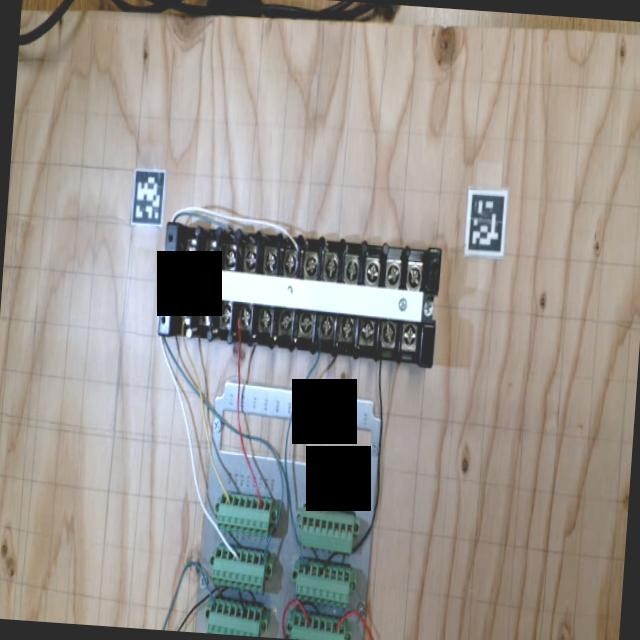Phillips_Block: (153, 215, 446, 367)
Terminal_2: (292, 559, 354, 608), (209, 545, 268, 593), (215, 492, 272, 537), (207, 598, 261, 638), (291, 611, 346, 640)
